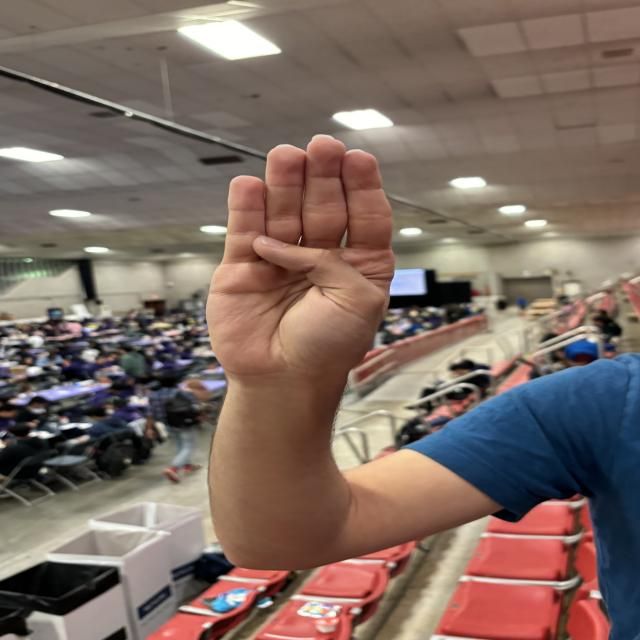B: (174, 124, 438, 404)
